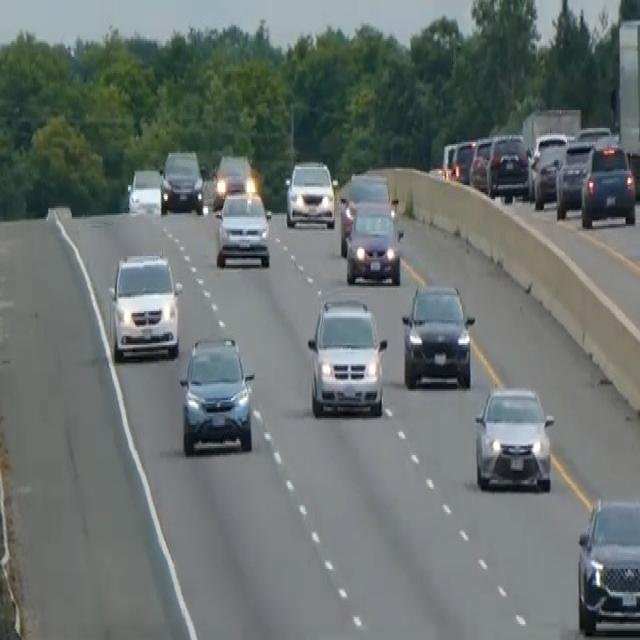car: (178, 333, 255, 455), (575, 492, 639, 636), (473, 382, 555, 492), (401, 279, 475, 389), (345, 198, 404, 286), (580, 138, 636, 228), (214, 186, 271, 268), (338, 171, 391, 256), (284, 156, 336, 230), (528, 130, 570, 208), (554, 138, 593, 218), (159, 148, 204, 215), (487, 131, 529, 201), (212, 151, 253, 206), (126, 165, 164, 215), (442, 137, 475, 183), (468, 133, 493, 192), (575, 122, 611, 146)
lorry: (614, 16, 639, 199)
minivan: (305, 295, 388, 418), (107, 249, 182, 361)
